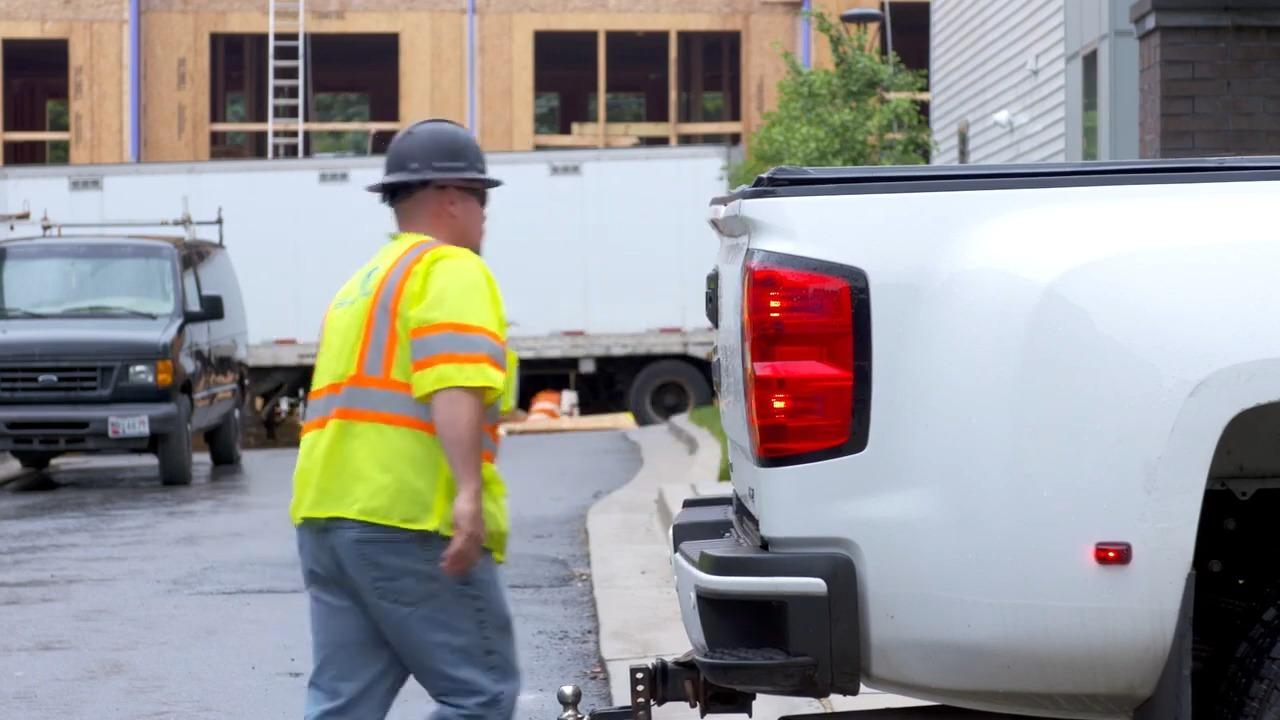Helmet: (367, 116, 505, 193)
Person: (286, 117, 518, 720)
Safety Vest: (305, 244, 507, 530)
bare-arms: (430, 484, 499, 577)
